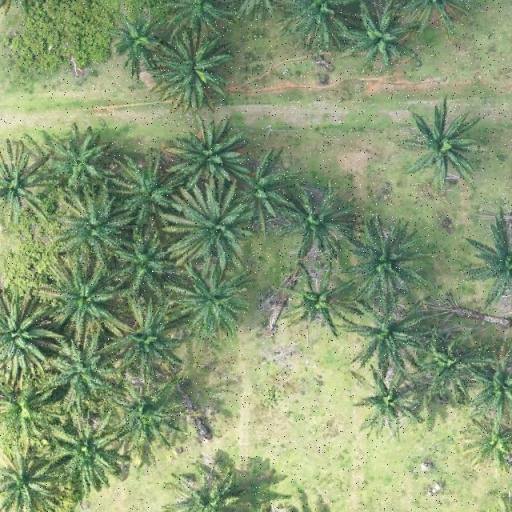Ganoderma: (466, 424, 508, 463)
